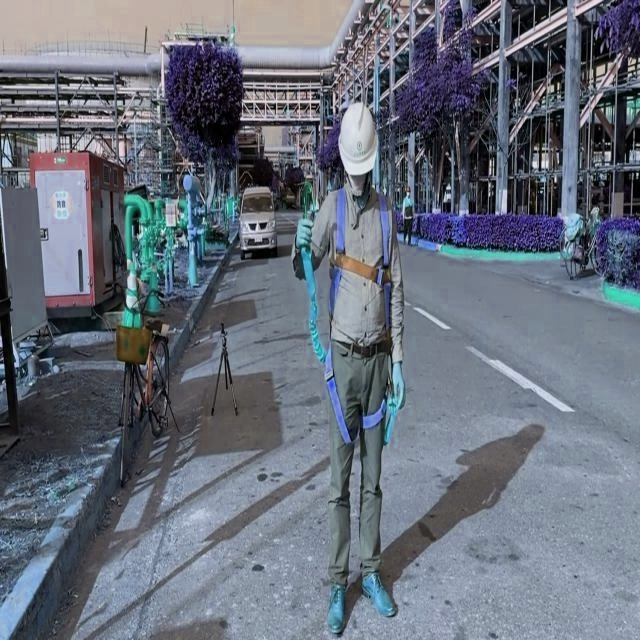safety belt: (311, 187, 424, 457)
